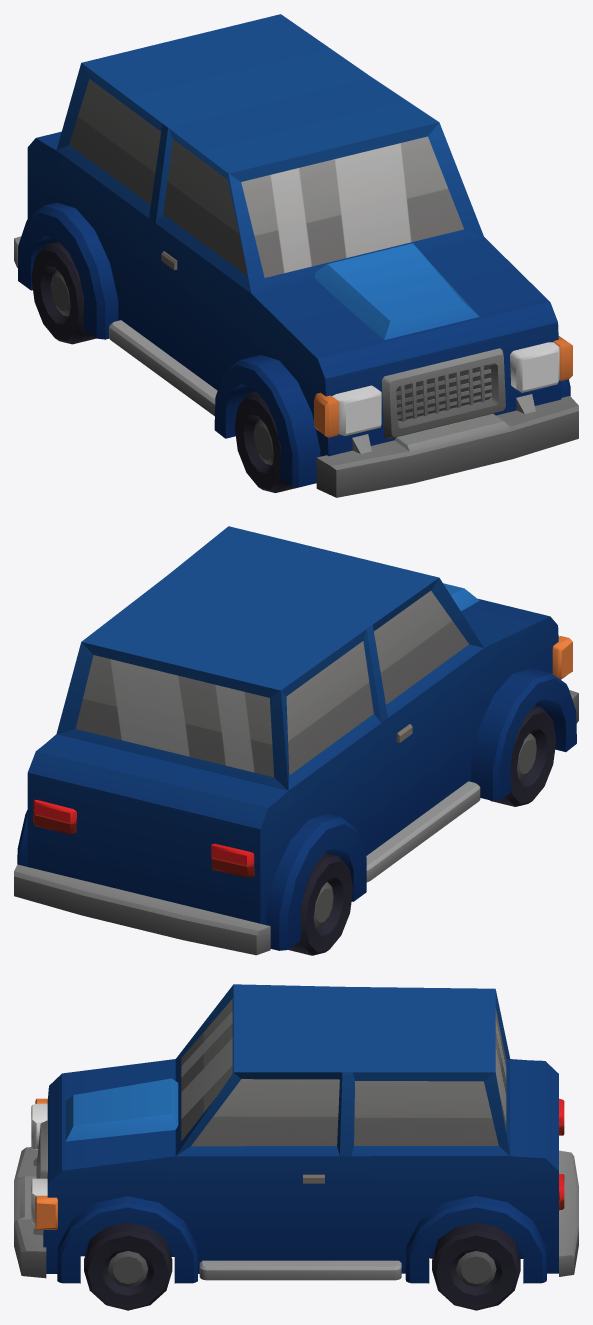
File: Car_3_15.glb
The picture shows the model from 3 angles, top to bottom: view 1: azimuth 30°, elevation 25°; view 2: azimuth 150°, elevation 25°; view 3: azimuth 270°, elevation 25°; orthographic projection. The views are drawn at different scales.
Parts seen in each view (by area): view 1: Car_3_15, Wheel_Br, Wheel_Fr; view 2: Car_3_15, Wheel_Br, Wheel_Fr; view 3: Car_3_15, Wheel_Bl, Wheel_Fl.
Boxes of the visible parts, x1=… form: Car_3_15: x1=14, y1=14, x2=578, y2=497; Wheel_Br: x1=31, y1=241, x2=96, y2=344; Wheel_Fr: x1=234, y1=391, x2=297, y2=492; Car_3_15: x1=14, y1=526, x2=578, y2=955; Wheel_Br: x1=288, y1=853, x2=353, y2=955; Wheel_Fr: x1=490, y1=705, x2=556, y2=806; Car_3_15: x1=14, y1=984, x2=578, y2=1283; Wheel_Bl: x1=432, y1=1223, x2=520, y2=1310; Wheel_Fl: x1=84, y1=1223, x2=172, y2=1310.
Size of the model in its own units: 1.13 by 1.02 by 2.3.
6 materials, 6 textured.
